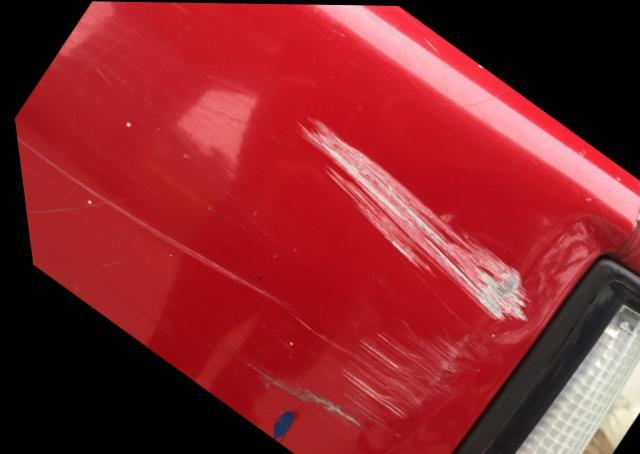scratch: (232, 110, 529, 428), (13, 133, 277, 309)
